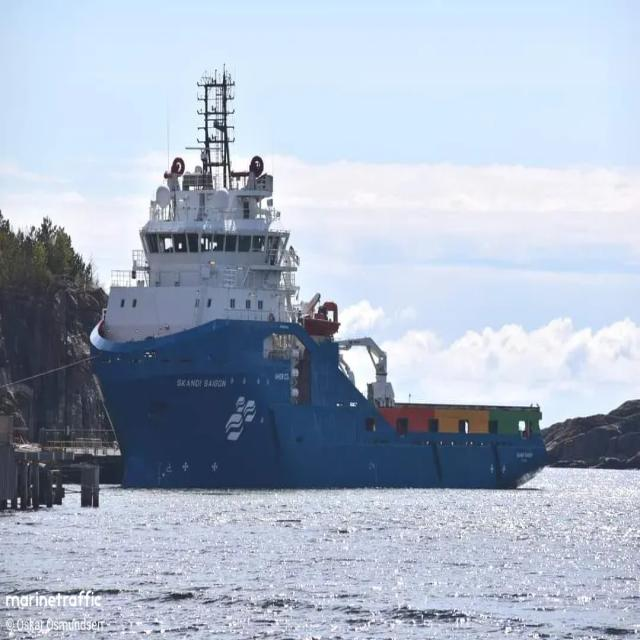Offshore: (90, 70, 545, 487)
